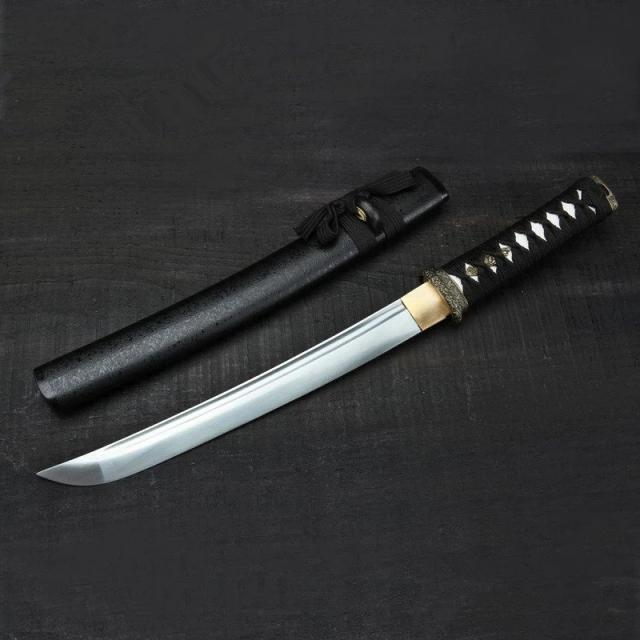short sword: (0, 154, 640, 504)
